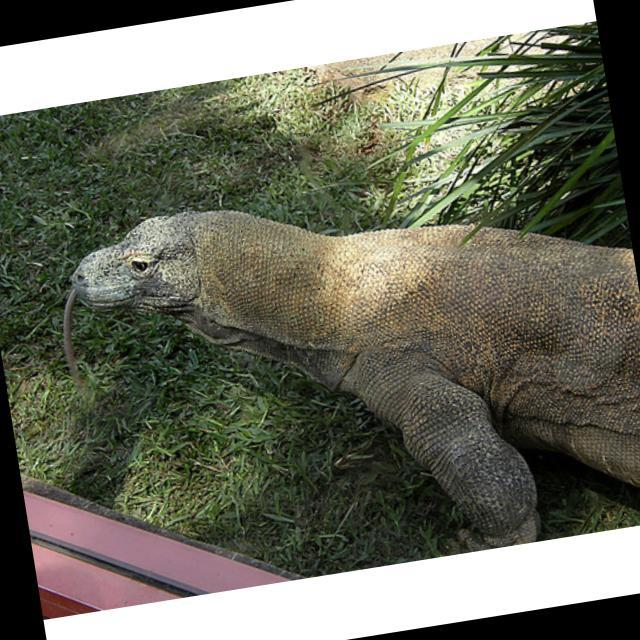KomodoDragon: (45, 139, 640, 607)
